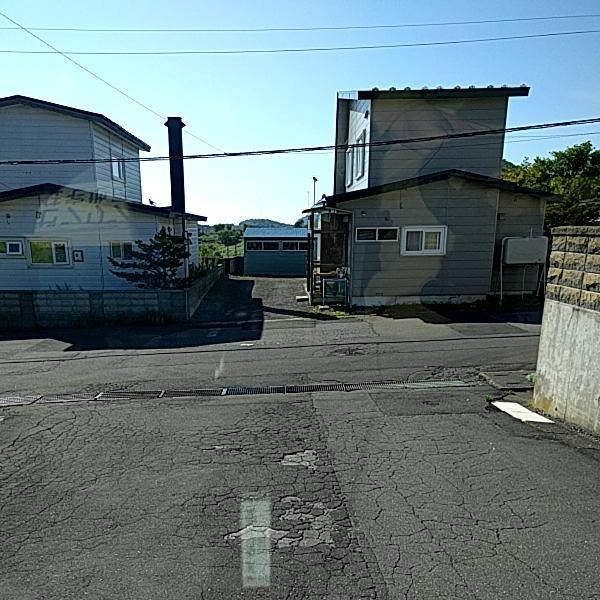pothole: (224, 491, 335, 551), (277, 448, 320, 471)
